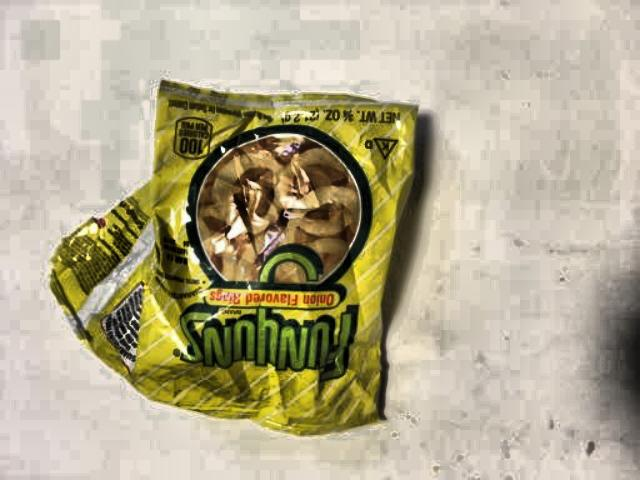Plastic: (45, 69, 432, 438)
